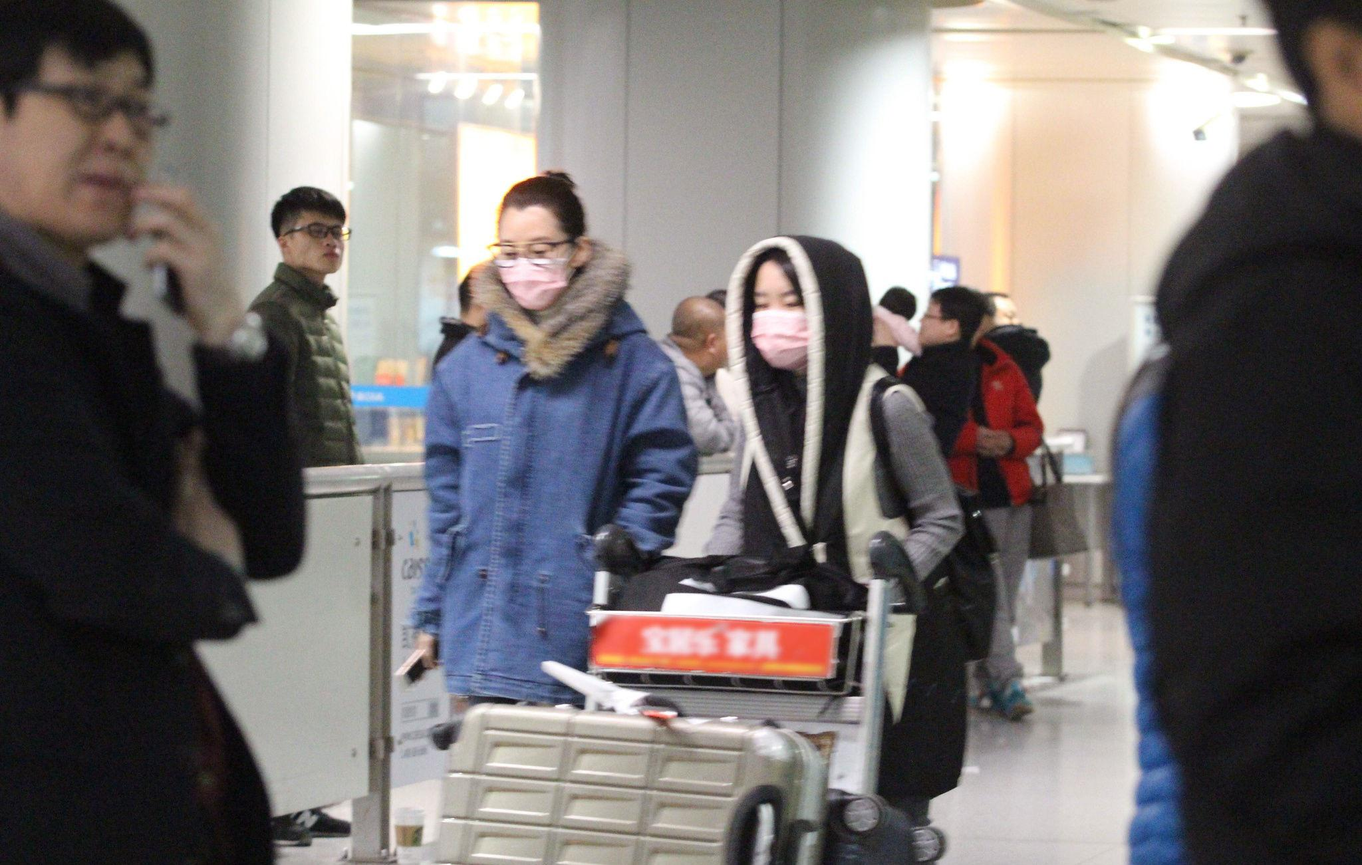NONE: (27, 60, 160, 231), (294, 215, 348, 273), (919, 298, 948, 354), (986, 297, 1022, 341)
OK: (737, 281, 819, 363), (495, 228, 571, 305)
